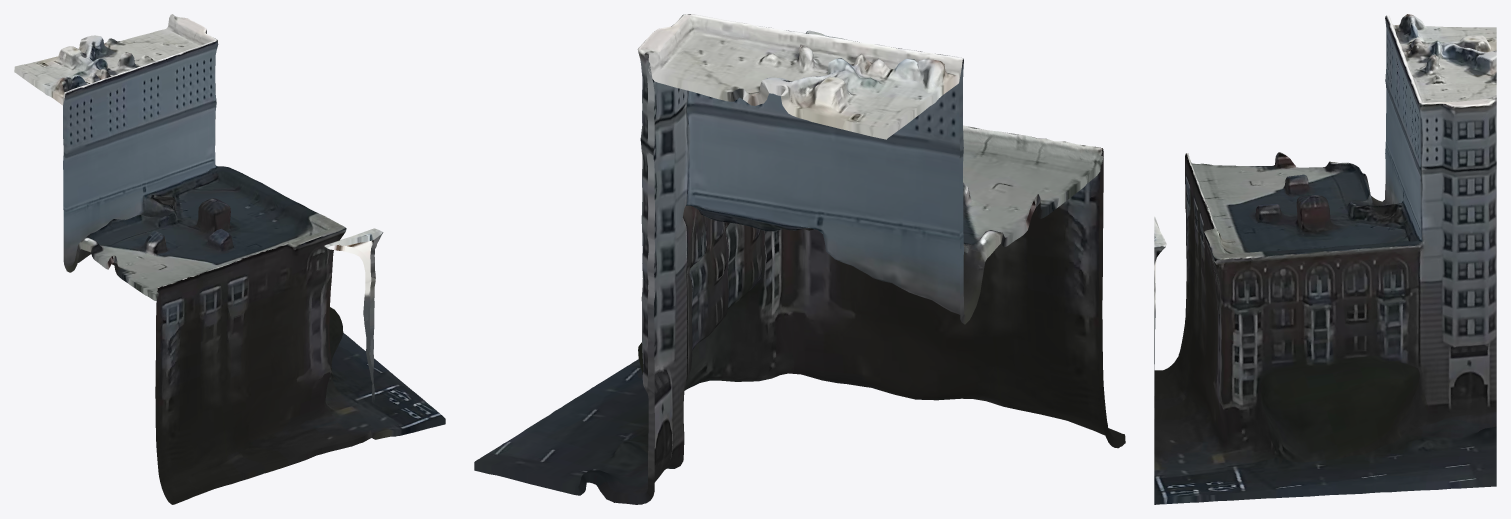
Rendered from z20-167748-405240-h0-yup-uvflip-v3-world.glb.
3 views of the same model, side by side, from view 1: azimuth 30°, elevation 25°; view 2: azimuth 150°, elevation 25°; view 3: azimuth 270°, elevation 25° (orthographic). The views are drawn at different scales.
Bounding box in the file's own units: 30.2 × 35.84 × 30.32.
Materials: 1 (1 with a texture image).
